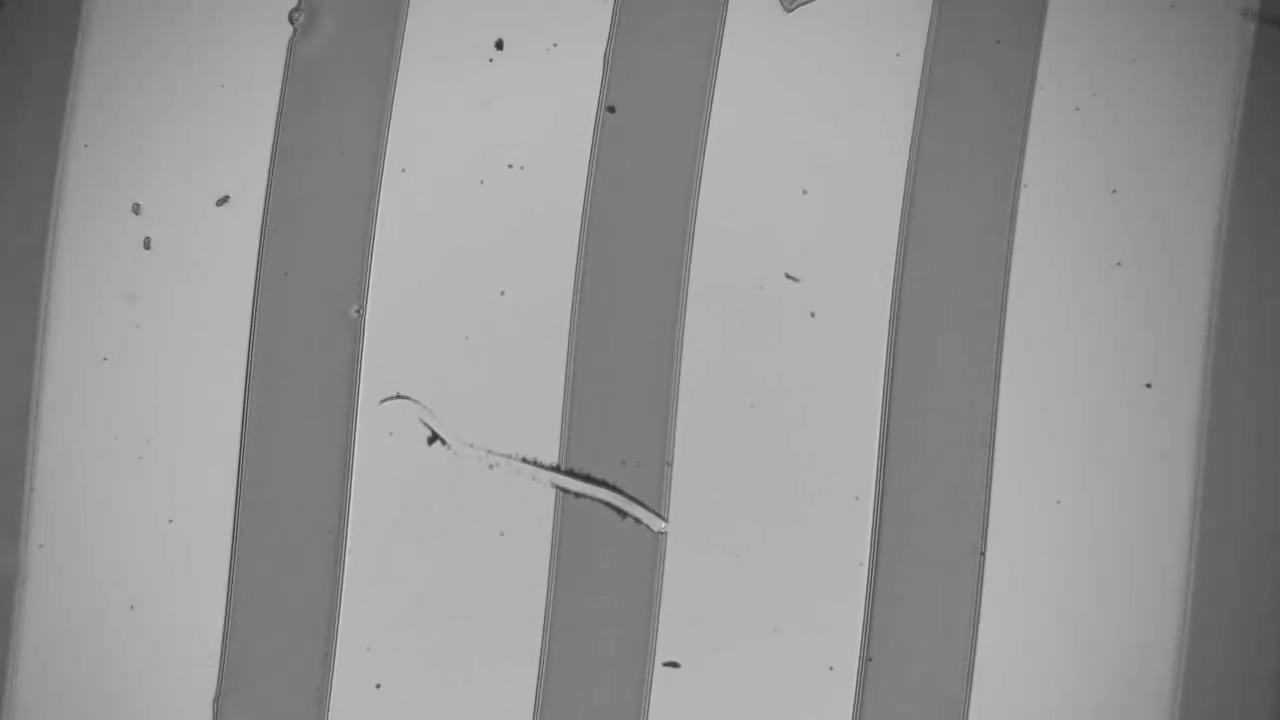Short_circuit: (535, 464, 704, 530)
